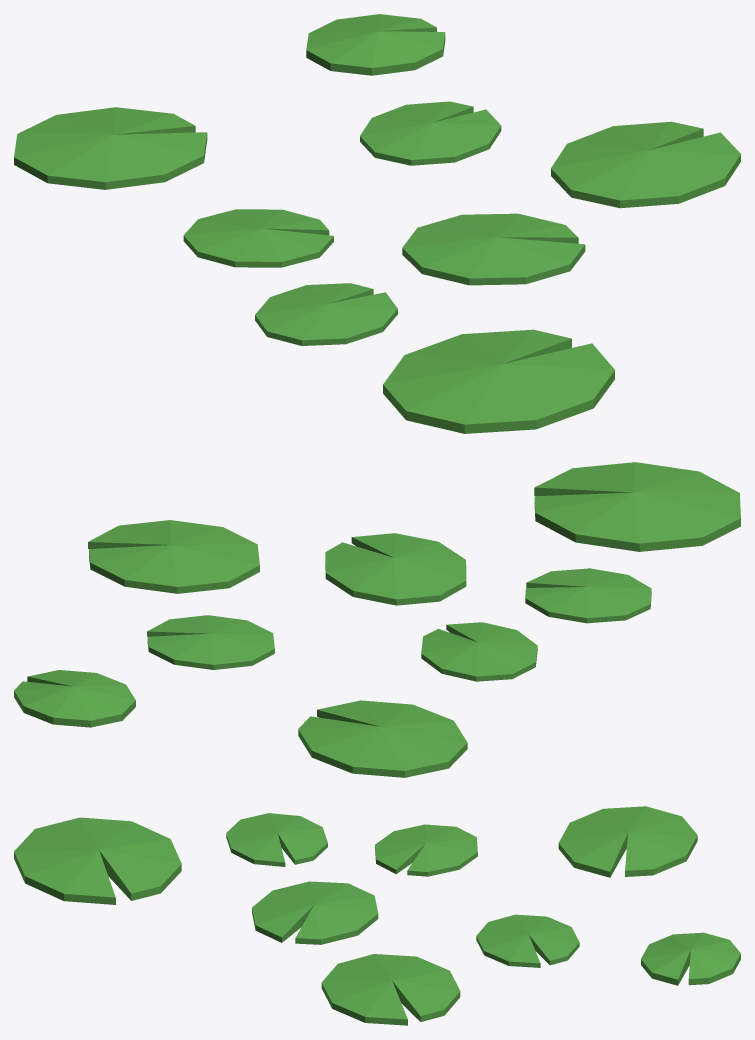
Rendered from lily_pads.glb.
3 views of the same model, one above another, from view 1: azimuth 30°, elevation 25°; view 2: azimuth 150°, elevation 25°; view 3: azimuth 270°, elevation 25° (orthographic). The views are drawn at different scales.
Visible parts, largest first — view 1: Water Lily Multi_1_A; view 2: Water Lily Multi_1_A; view 3: Water Lily Multi_1_A.
Boxes of the visible parts, x1,y1,x2,y2 form: Water Lily Multi_1_A: (14, 14, 740, 433); Water Lily Multi_1_A: (14, 462, 740, 777); Water Lily Multi_1_A: (14, 806, 740, 1025).
Bounding box in the file's own units: 0.84 × 0.03 × 1.21.
1 material, 1 textured.
